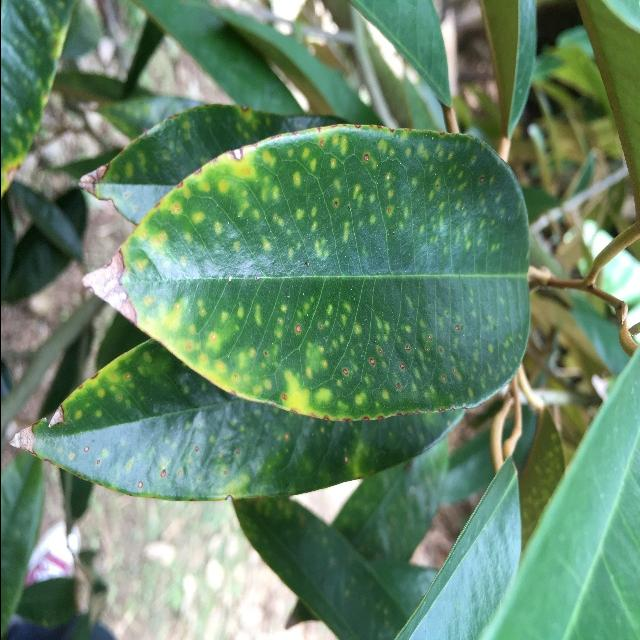Leaf Spot: (8, 99, 537, 508)
